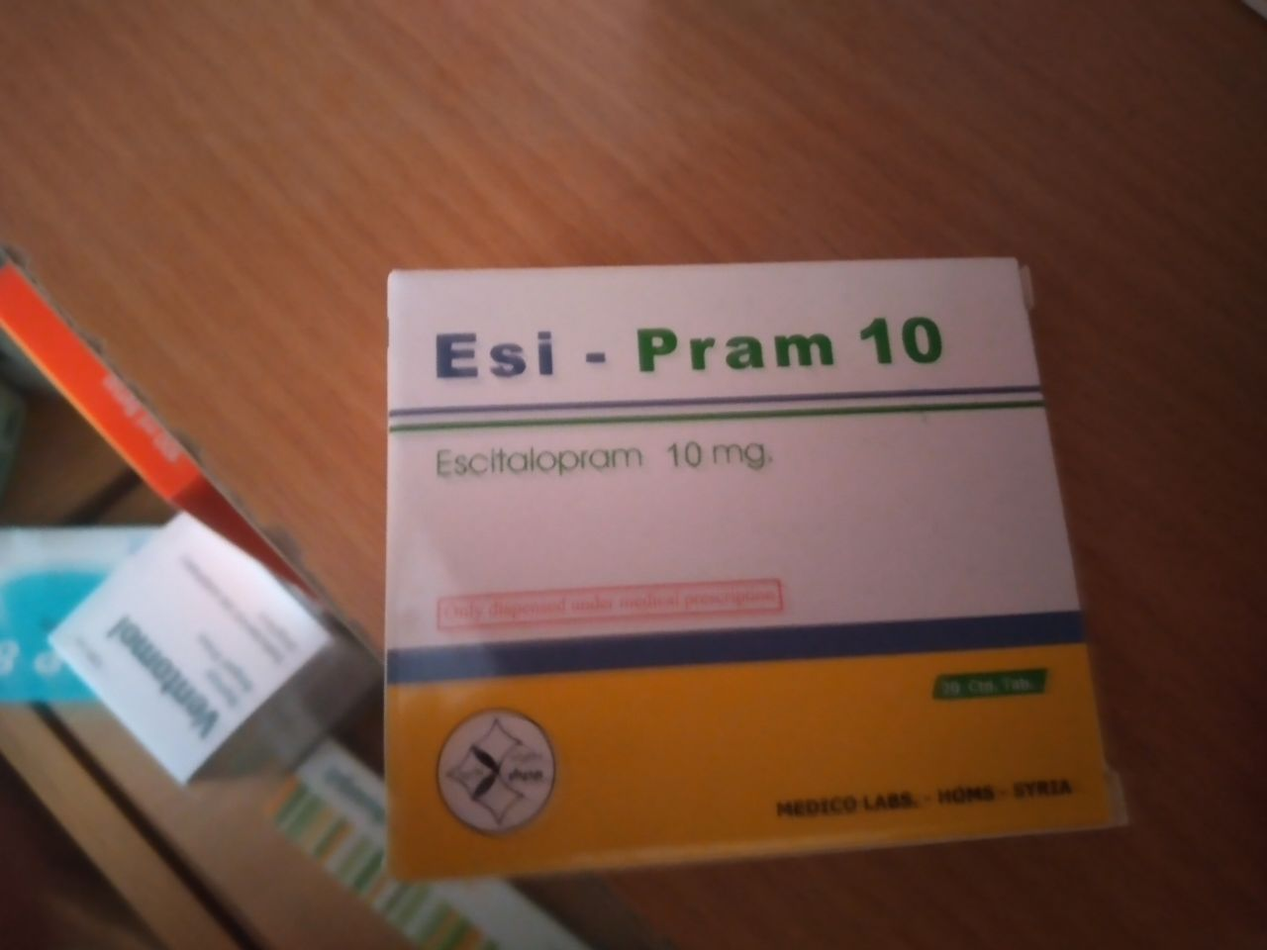Medicine: (361, 245, 1141, 886)
